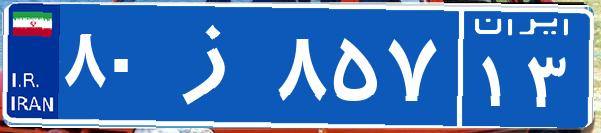0: (110, 28, 158, 105)
1: (475, 38, 525, 113)
3: (525, 38, 570, 115)
5: (330, 28, 385, 110)
7: (385, 28, 445, 110)
8: (273, 28, 330, 110), (57, 26, 110, 107)
ز: (158, 15, 273, 115)
